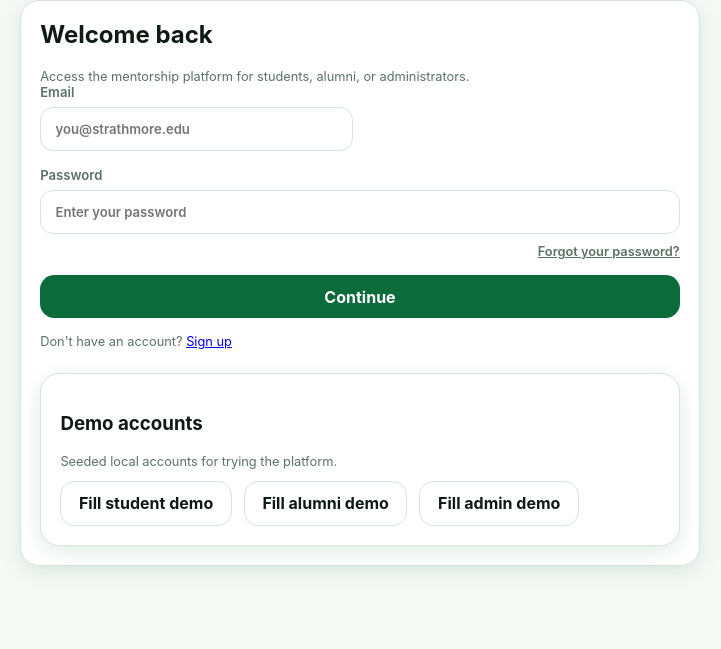
Test case: AuthPage › shows the server's message when sign-in is refused
The image size is (721, 649).
Type "a@b.co" into the field with placeholder "you@strathmore.edu" at (196, 129), box [40, 107, 353, 151]
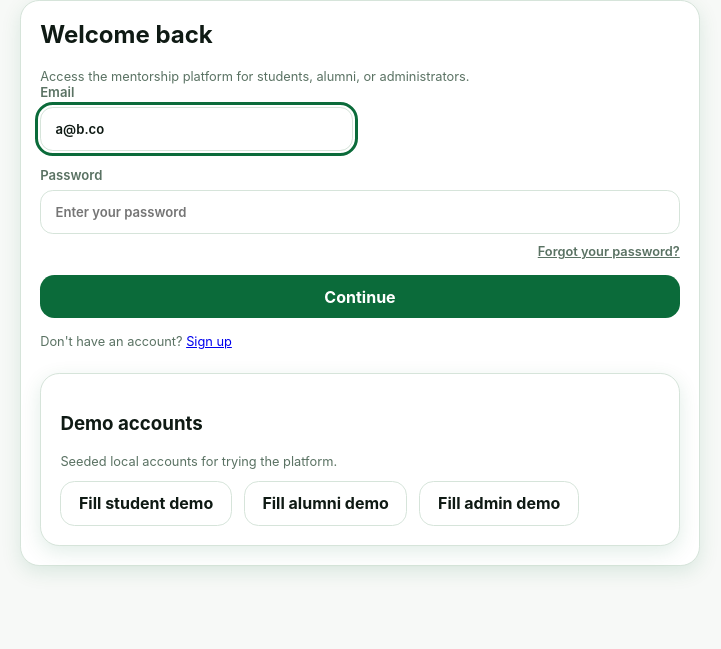
Type "wrong-password" into the password field with placeholder "Enter your password" at (360, 212), box [40, 190, 680, 234]
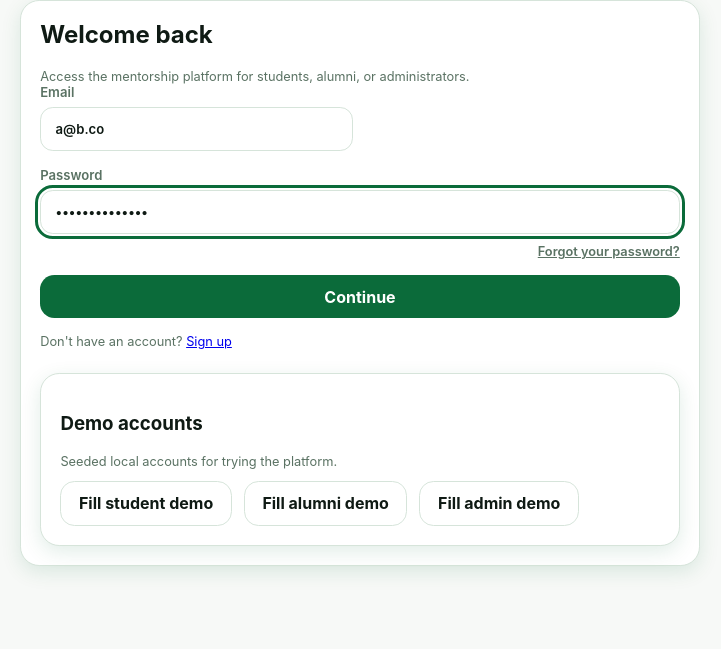
Click the button "Continue" at (360, 296), box [40, 275, 680, 318]
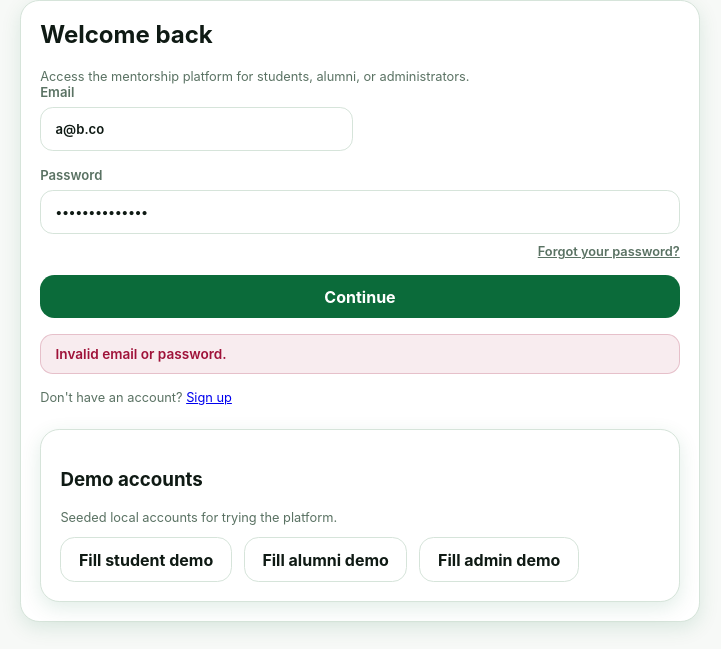
Result: the text "Invalid email or password." is shown at [40, 334, 680, 374]
